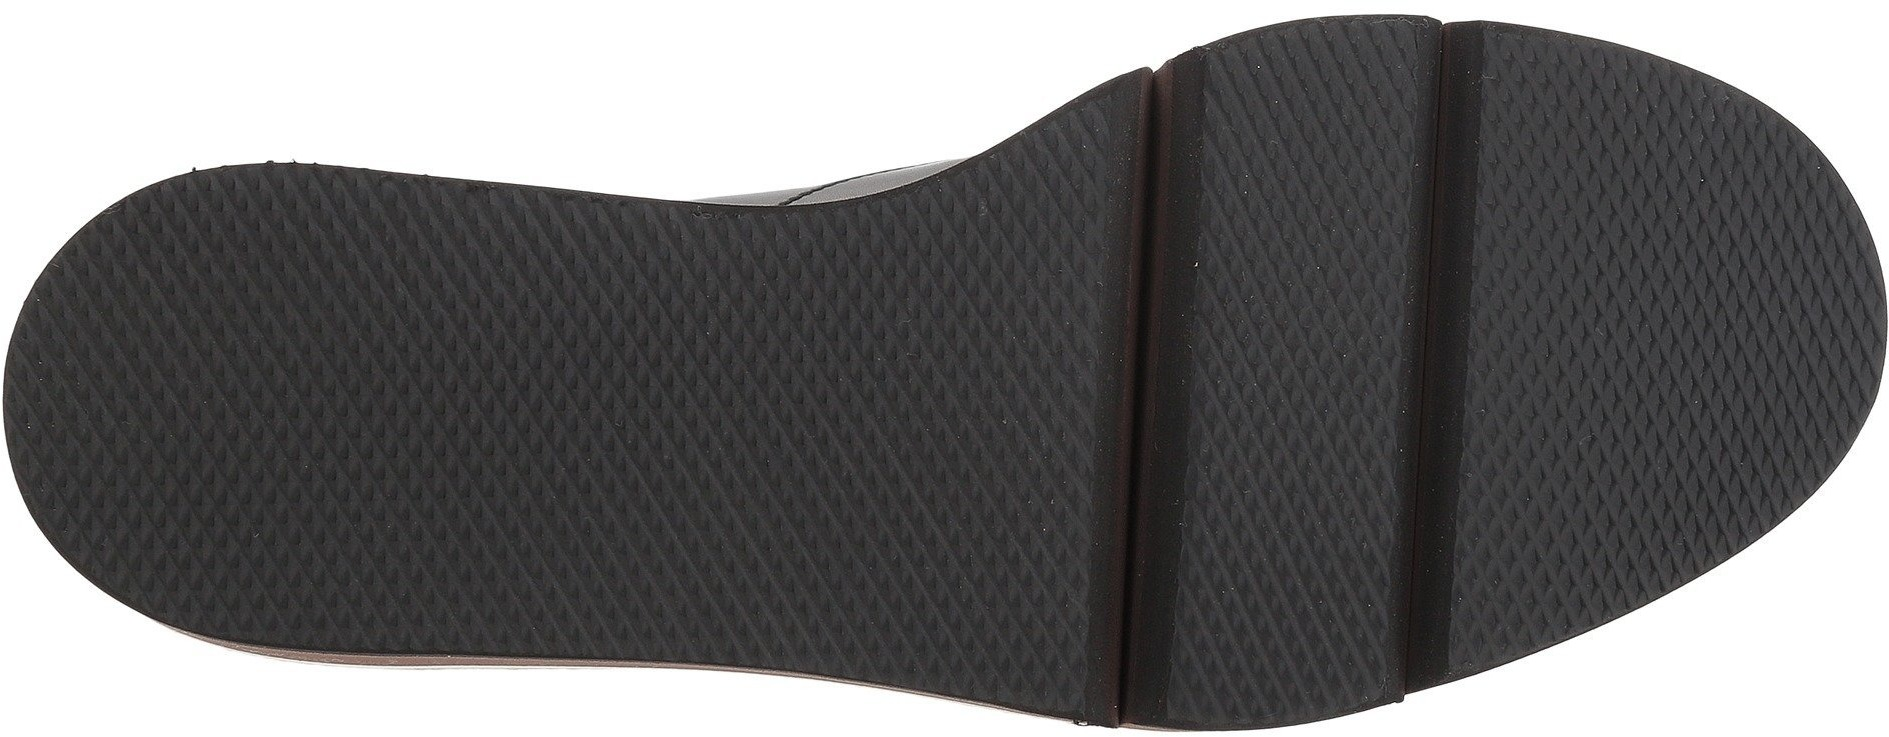other: (1500, 110, 1725, 332), (1491, 338, 1720, 554), (1202, 554, 1372, 719), (1734, 253, 1873, 395)
quad: (308, 194, 606, 459), (858, 204, 1105, 471), (43, 283, 301, 526), (617, 219, 845, 461), (1196, 348, 1395, 550), (1210, 61, 1410, 260), (510, 465, 712, 659), (792, 482, 987, 665), (312, 468, 502, 643), (545, 518, 625, 605), (145, 466, 210, 541)
